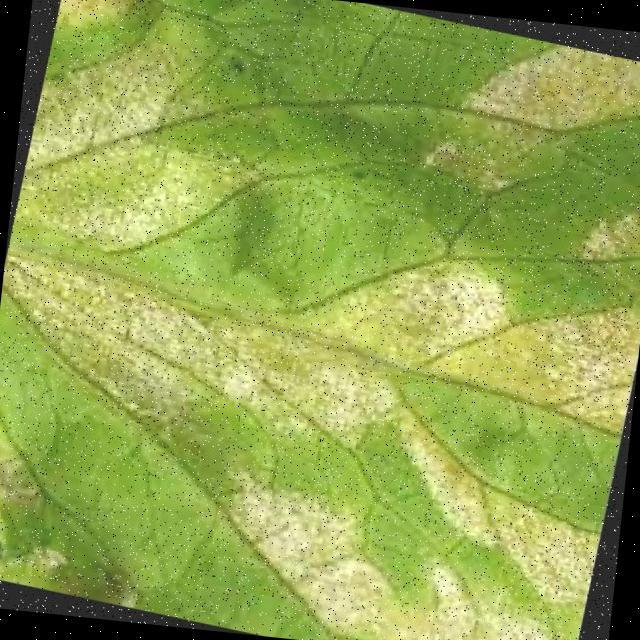Downy_Mildew: (139, 193, 640, 640)
